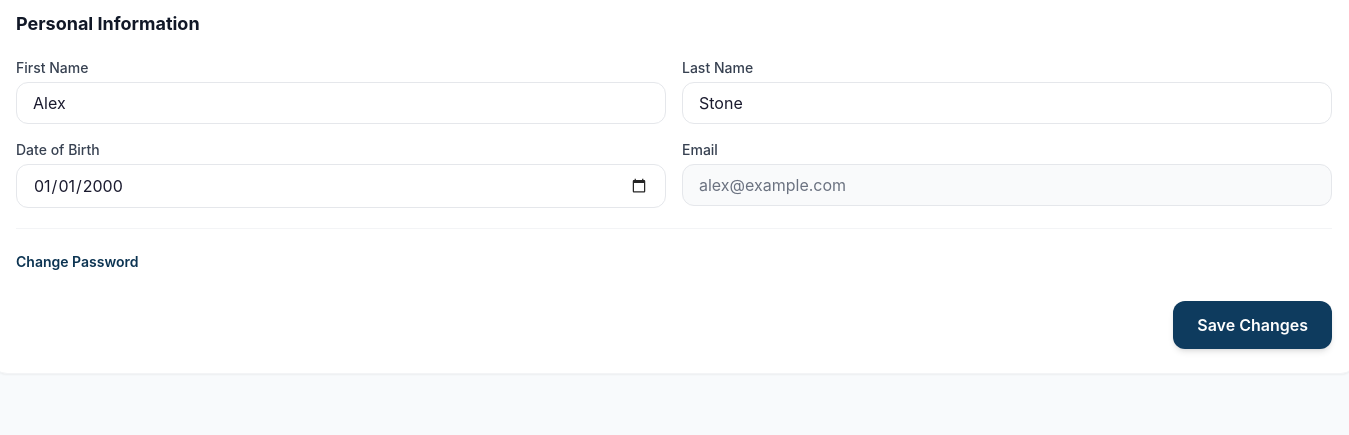
it: ProfileEditForm submit flow › treats profile route failures as hard errors
What coordinates should you click on to do the following:
click the button with test id "profile-save"
I would click on:
 (1253, 325)
Its box is 1173,301 -> 1332,349.
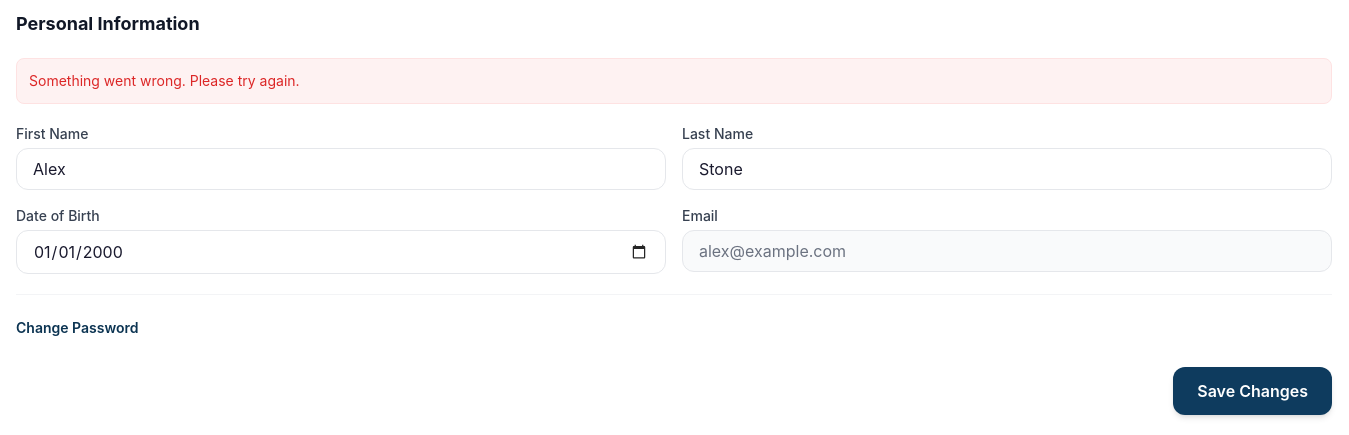
Now the text "Something went wrong. Please try again." is shown, box 16,58 -> 1332,104
